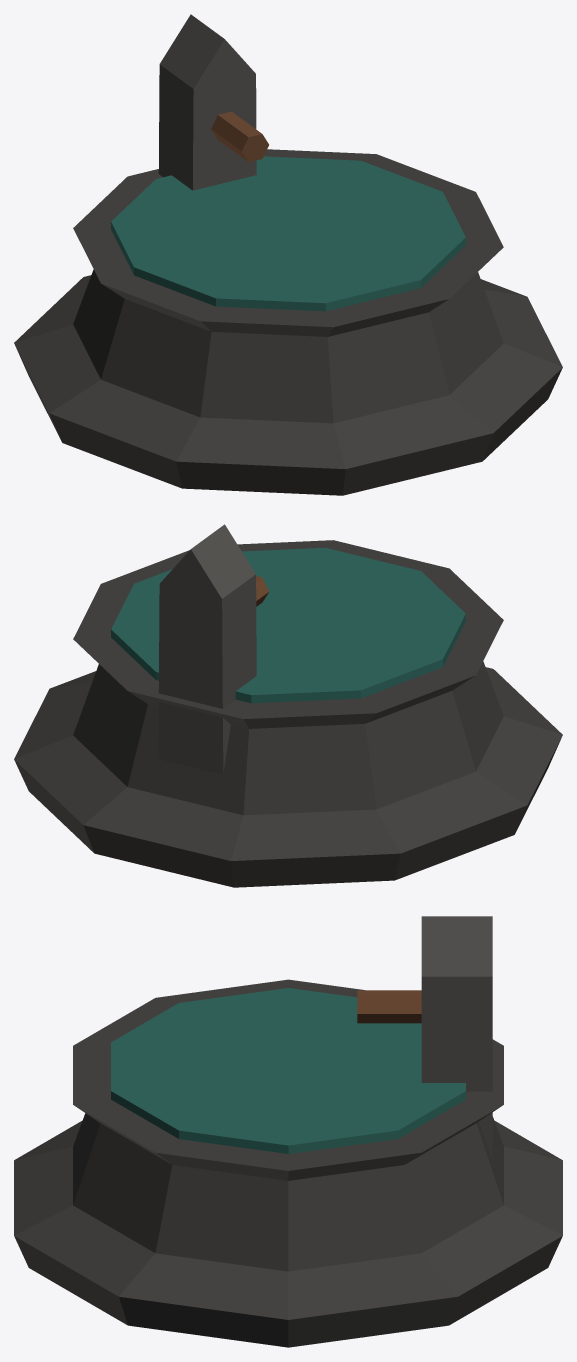
File: restoration_font.glb
3 views of the same model, one above another, from view 1: azimuth 30°, elevation 25°; view 2: azimuth 150°, elevation 25°; view 3: azimuth 270°, elevation 25° (orthographic). The views are drawn at different scales.
Visible parts, largest first — view 1: restoration_font; view 2: restoration_font; view 3: restoration_font.
Boxes of the visible parts, x1,y1,x2,y2 form: restoration_font: (14,14,562,495); restoration_font: (14,524,562,887); restoration_font: (14,916,562,1347).
Size of the model in its own units: 2.6 by 1.57 by 2.47.
